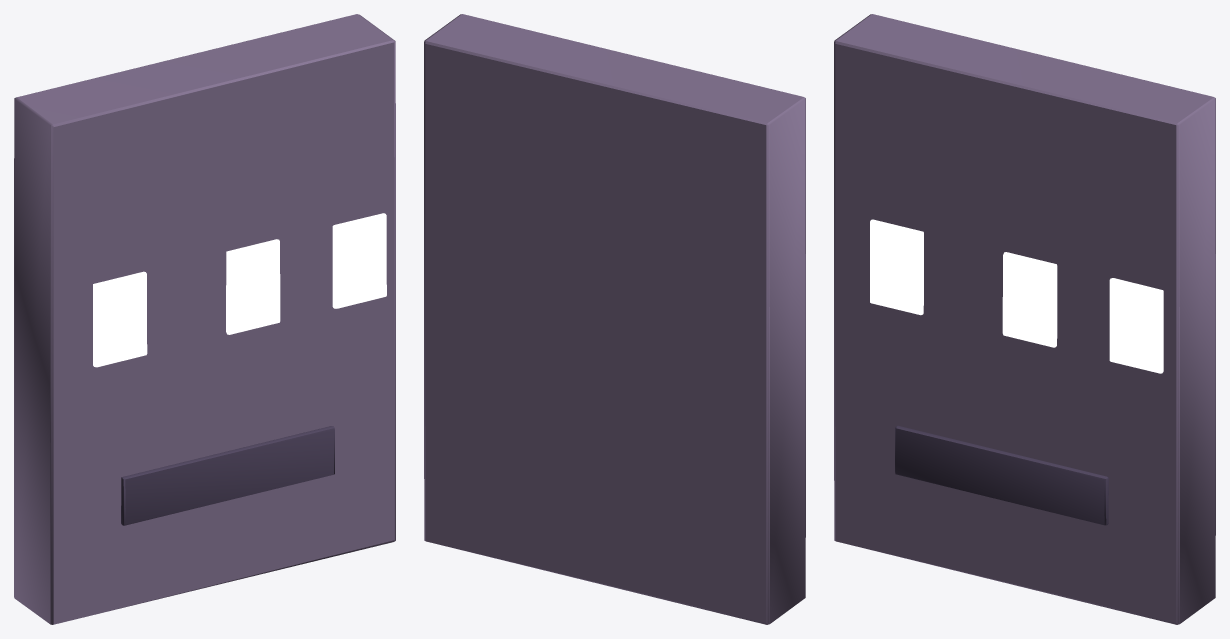
File: SM_Labor_LabWall_LOD1.fbx
3 renders of one model, left to right at view 1: azimuth 30°, elevation 25°; view 2: azimuth 150°, elevation 25°; view 3: azimuth 330°, elevation 25°, orthographic.
Parts seen in each view (by area): view 1: SM_Labor_LabWall_LOD1; view 2: SM_Labor_LabWall_LOD1; view 3: SM_Labor_LabWall_LOD1.
Boxes of the visible parts, <box> form: SM_Labor_LabWall_LOD1: <box>14,14,395,624</box>; SM_Labor_LabWall_LOD1: <box>424,14,805,624</box>; SM_Labor_LabWall_LOD1: <box>834,14,1215,624</box>.
Size of the model in its own units: 2.59 by 3.6 by 0.575.
